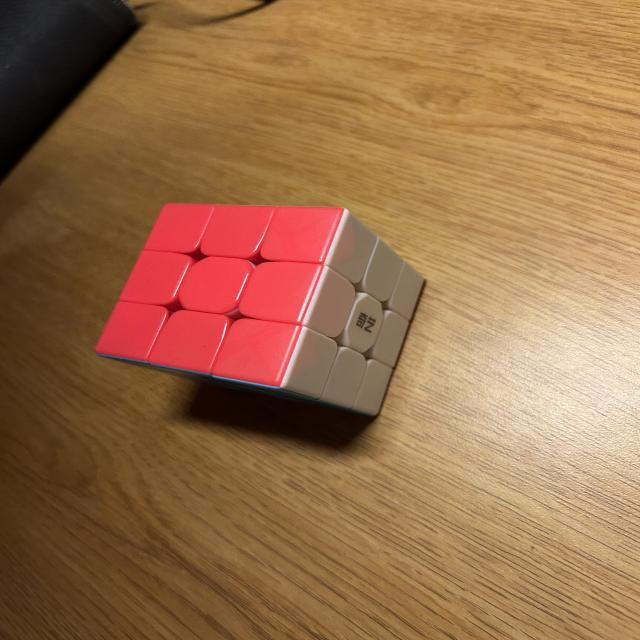Rubiks Cube: (95, 201, 428, 420)
